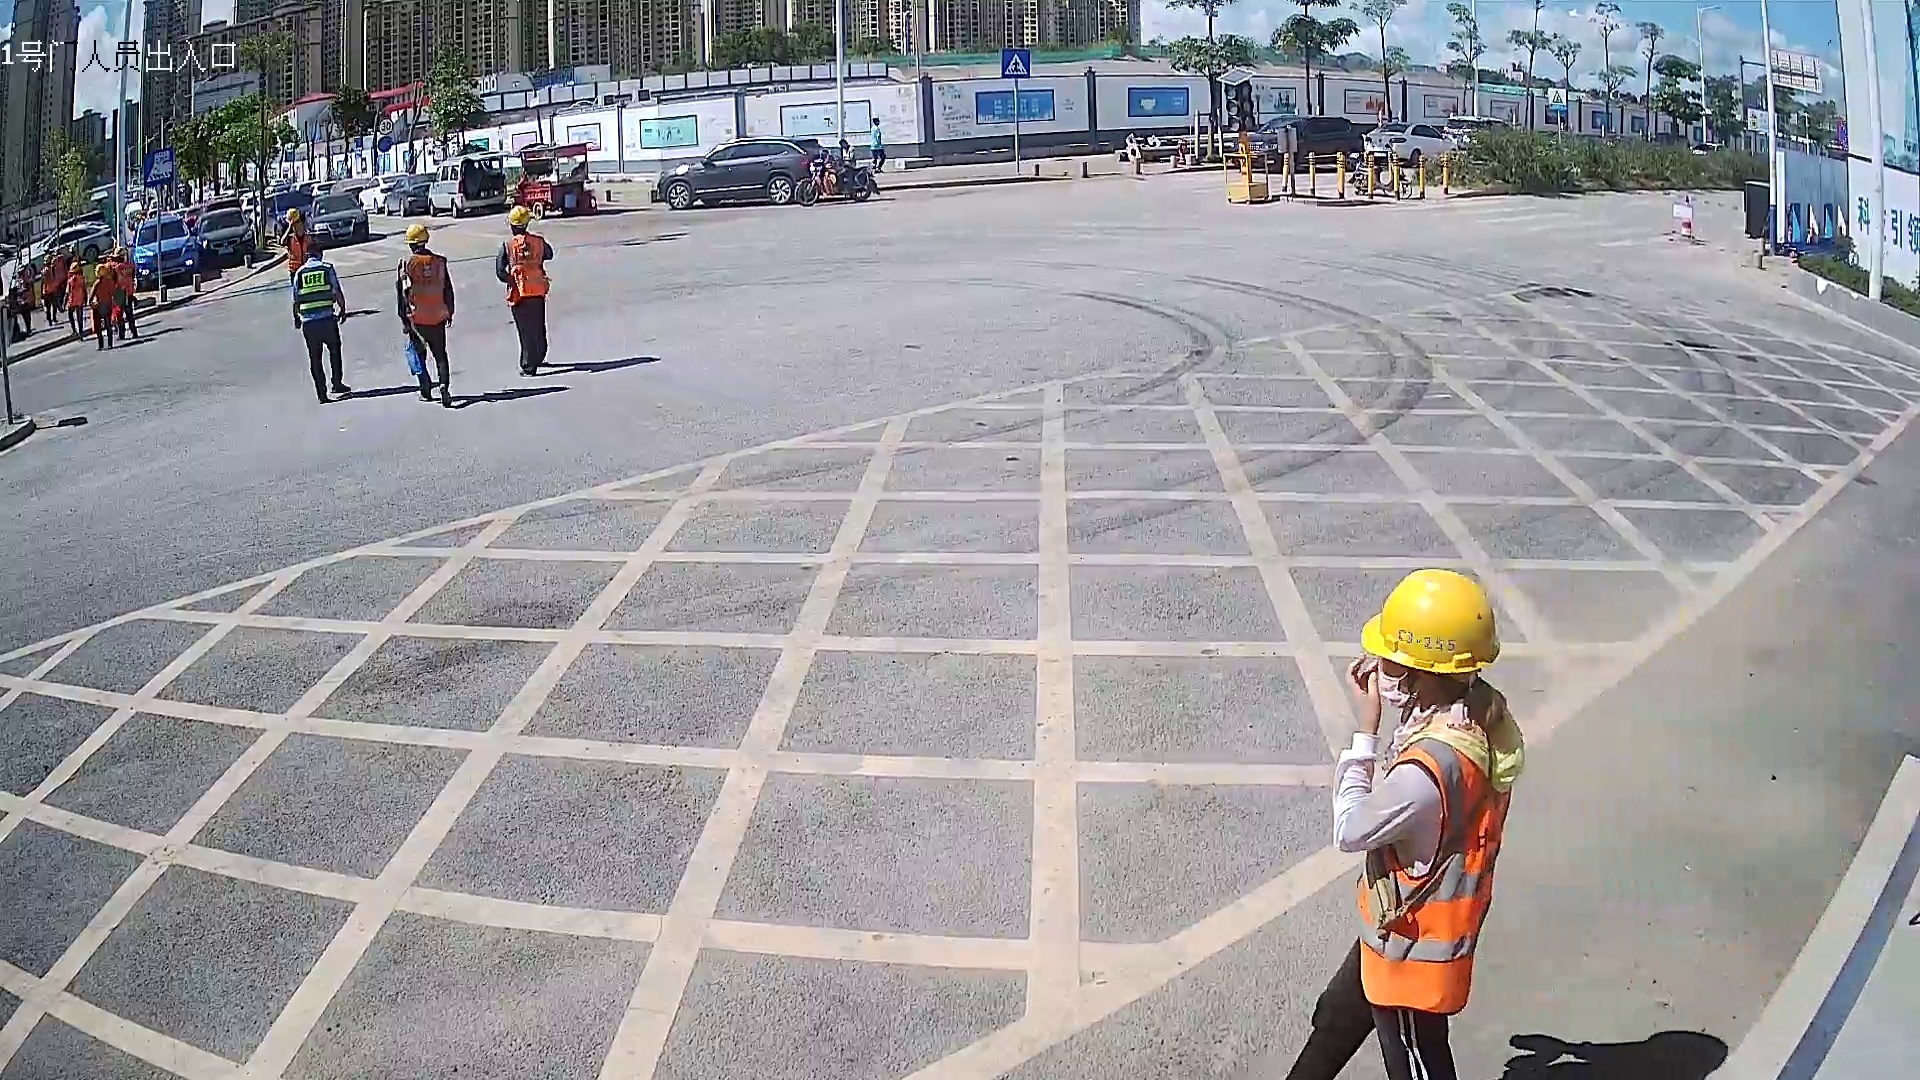head: (306, 241, 325, 262)
person: (1278, 563, 1527, 1080), (394, 222, 457, 409), (495, 203, 556, 378), (291, 241, 352, 405), (280, 206, 309, 296)
reflective_vest: (1352, 737, 1514, 1017), (400, 253, 451, 328), (502, 233, 551, 306), (295, 263, 336, 314), (287, 230, 312, 272)
safety_helmet: (1357, 564, 1506, 718), (1359, 565, 1502, 718), (402, 222, 432, 253), (507, 203, 532, 236), (285, 206, 306, 235)
